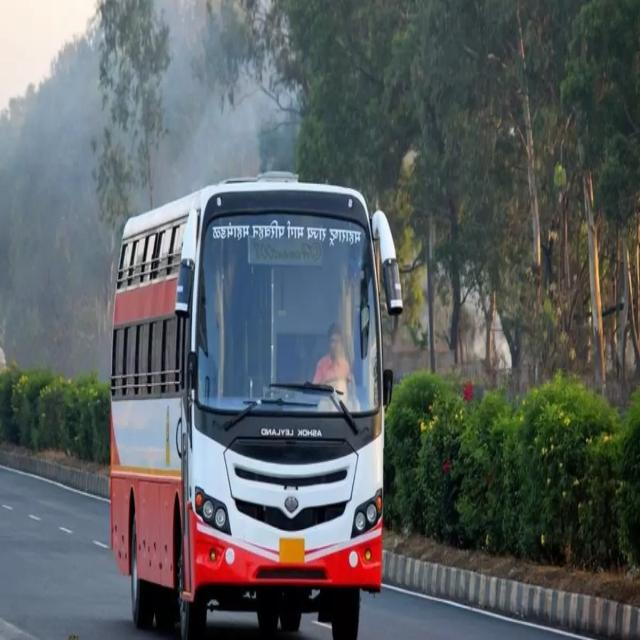bus: (110, 176, 401, 638)
